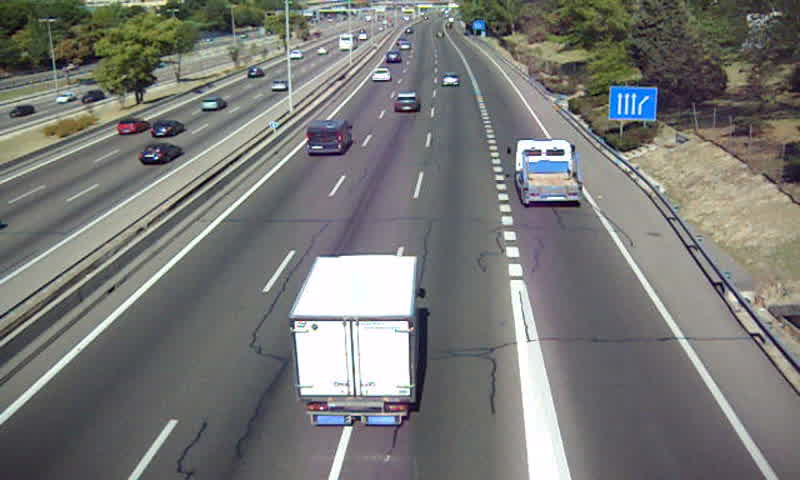car: (393, 92, 421, 115), (369, 68, 390, 84), (441, 73, 461, 89)
small-truck: (289, 255, 420, 421), (514, 138, 583, 207)
van: (307, 120, 351, 154)
